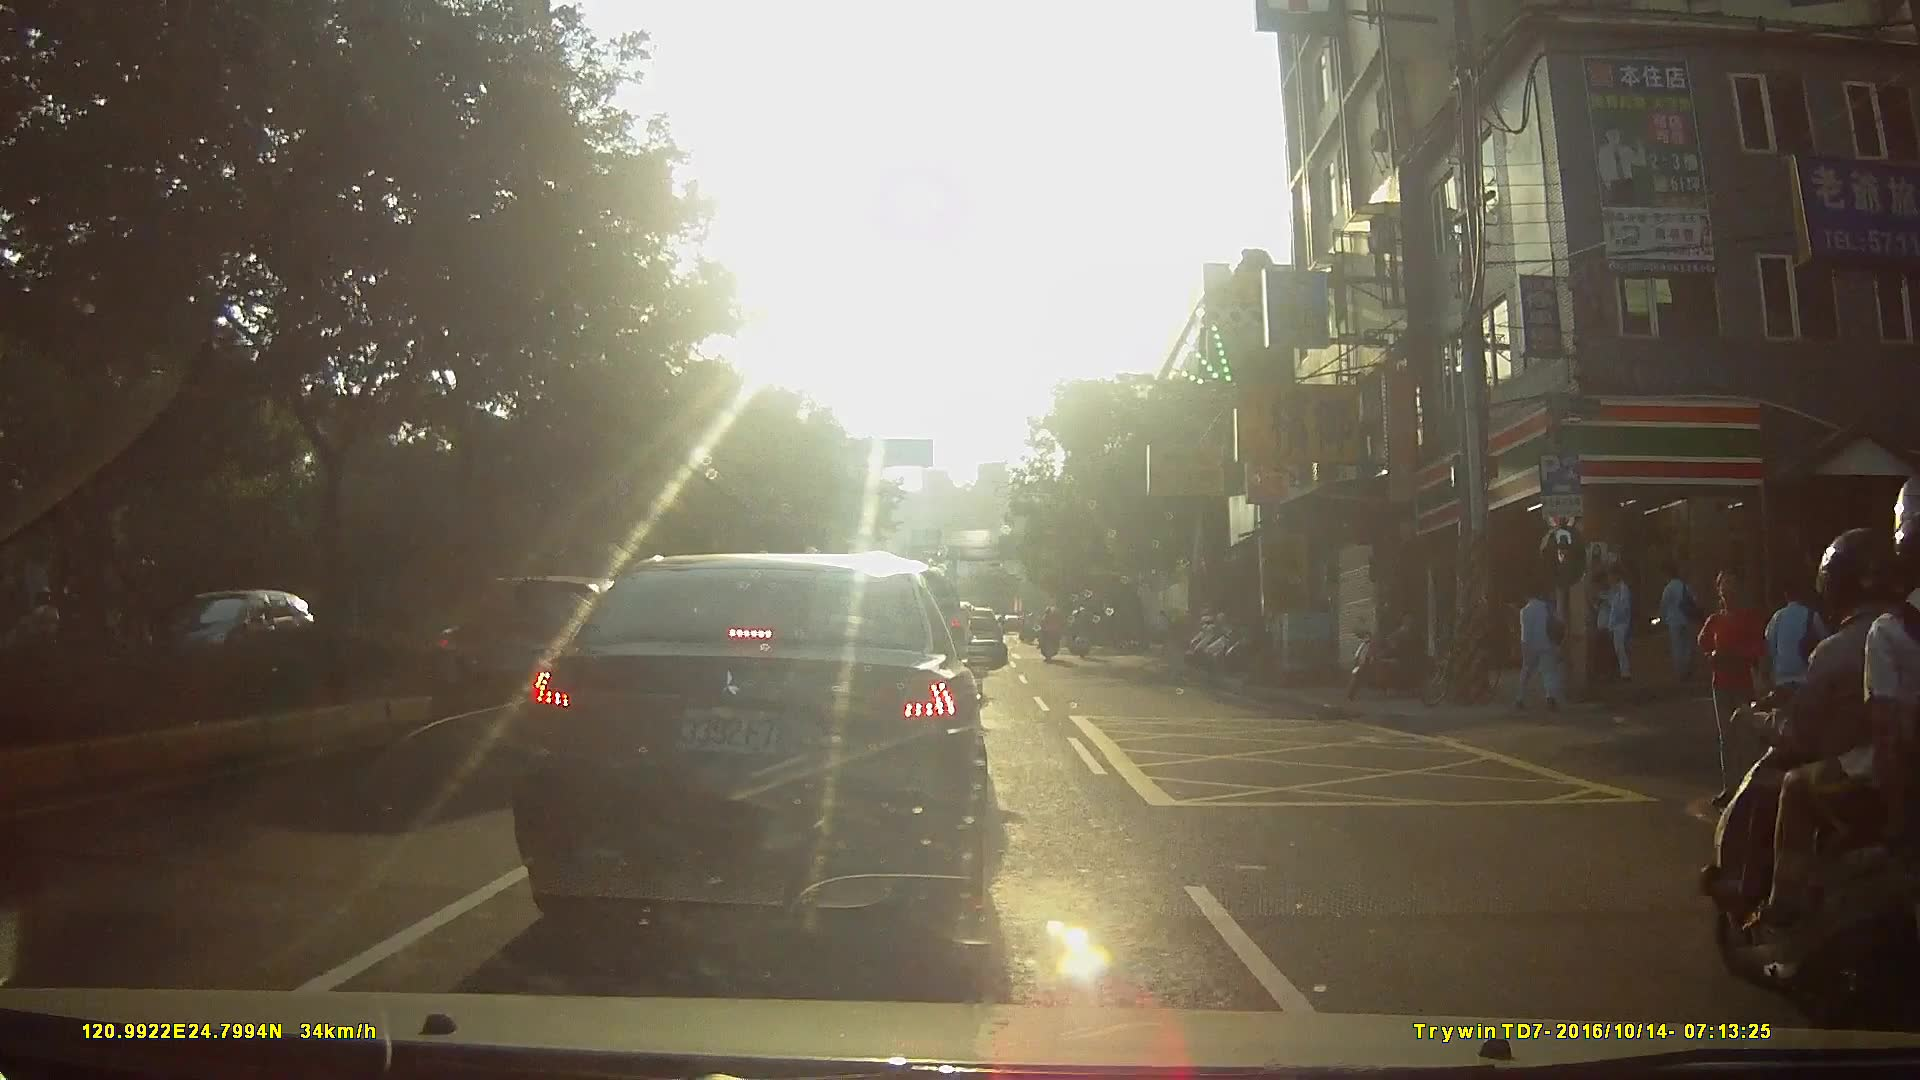pedestrian: (1696, 567, 1768, 807), (1514, 579, 1567, 714), (1589, 567, 1633, 687), (1662, 565, 1703, 676), (1588, 567, 1611, 693)
rider: (1703, 492, 1920, 1037), (1039, 606, 1064, 666), (1067, 609, 1091, 661)
vehicle: (501, 546, 1013, 946), (429, 566, 694, 766), (131, 586, 324, 683)
